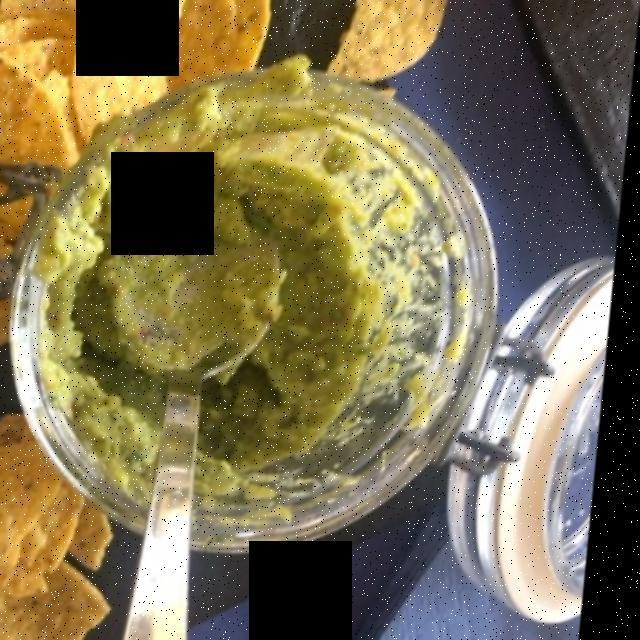corn-crisps: (0, 18, 441, 624)
guacamole: (93, 176, 386, 477)
